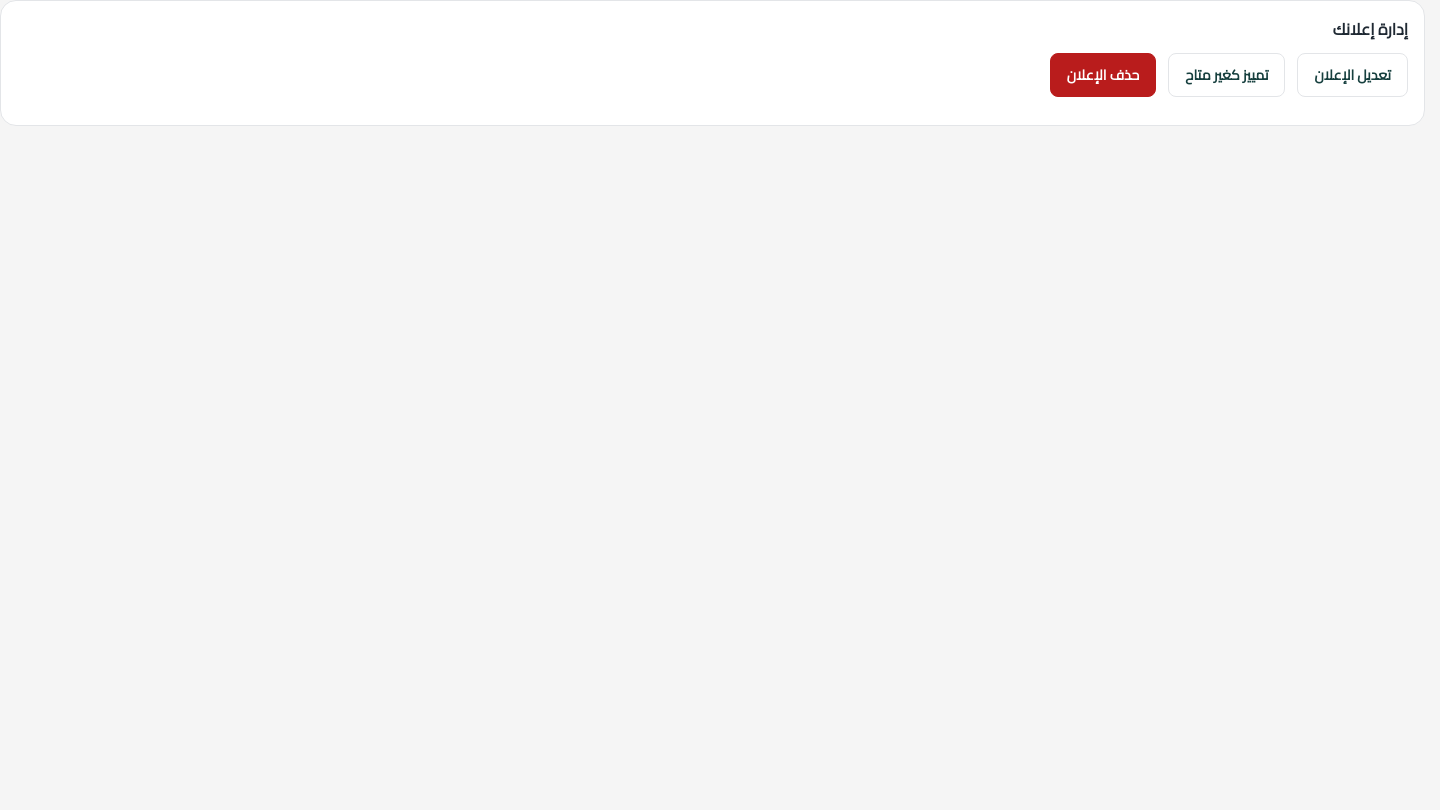
cancels delete without making requests or invalidating cache
Step 1. Click the button "حذف الإعلان" → (1103, 75), box [1050,53,1156,97]
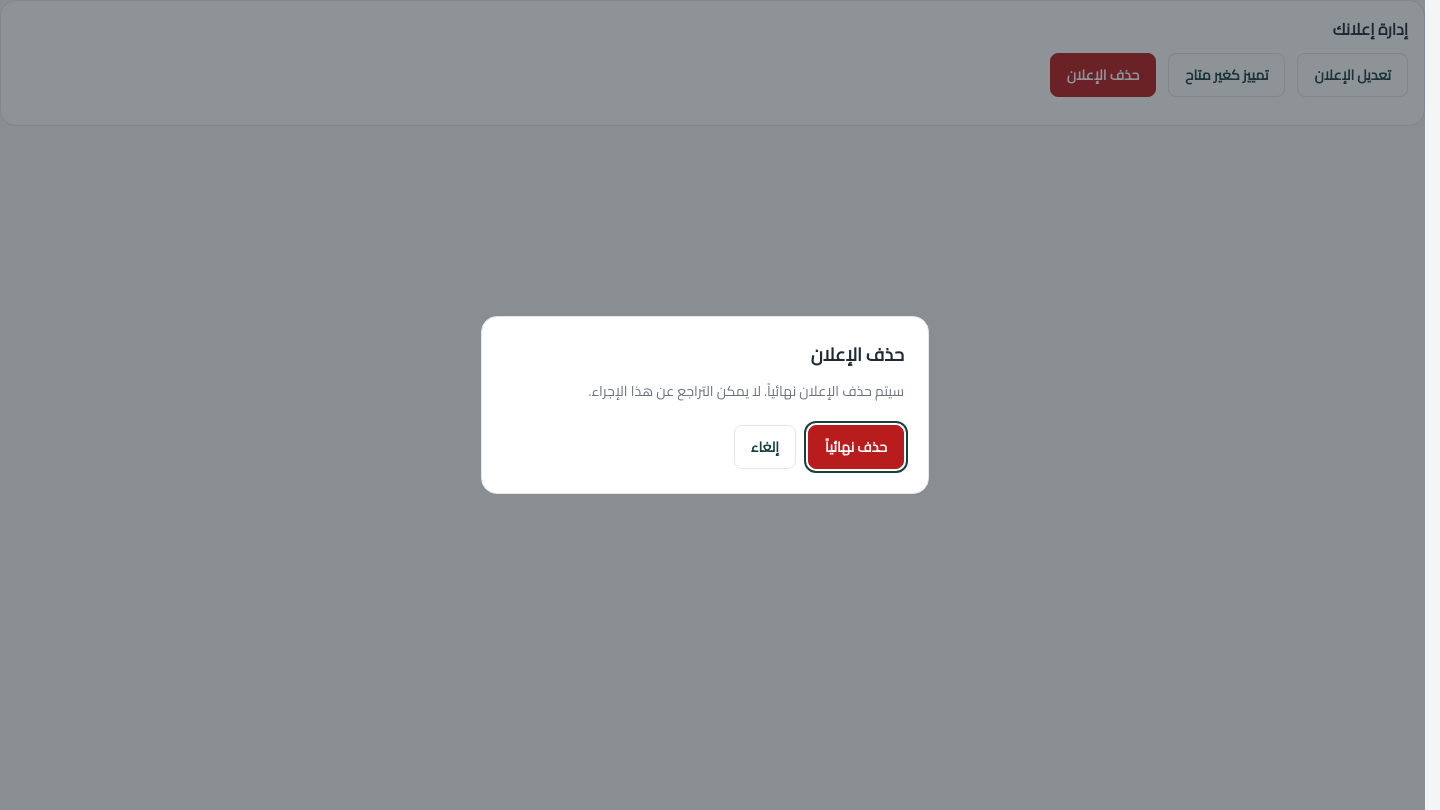
Step 2. Click the button "إلغاء" → (765, 447), box [734,425,796,469]
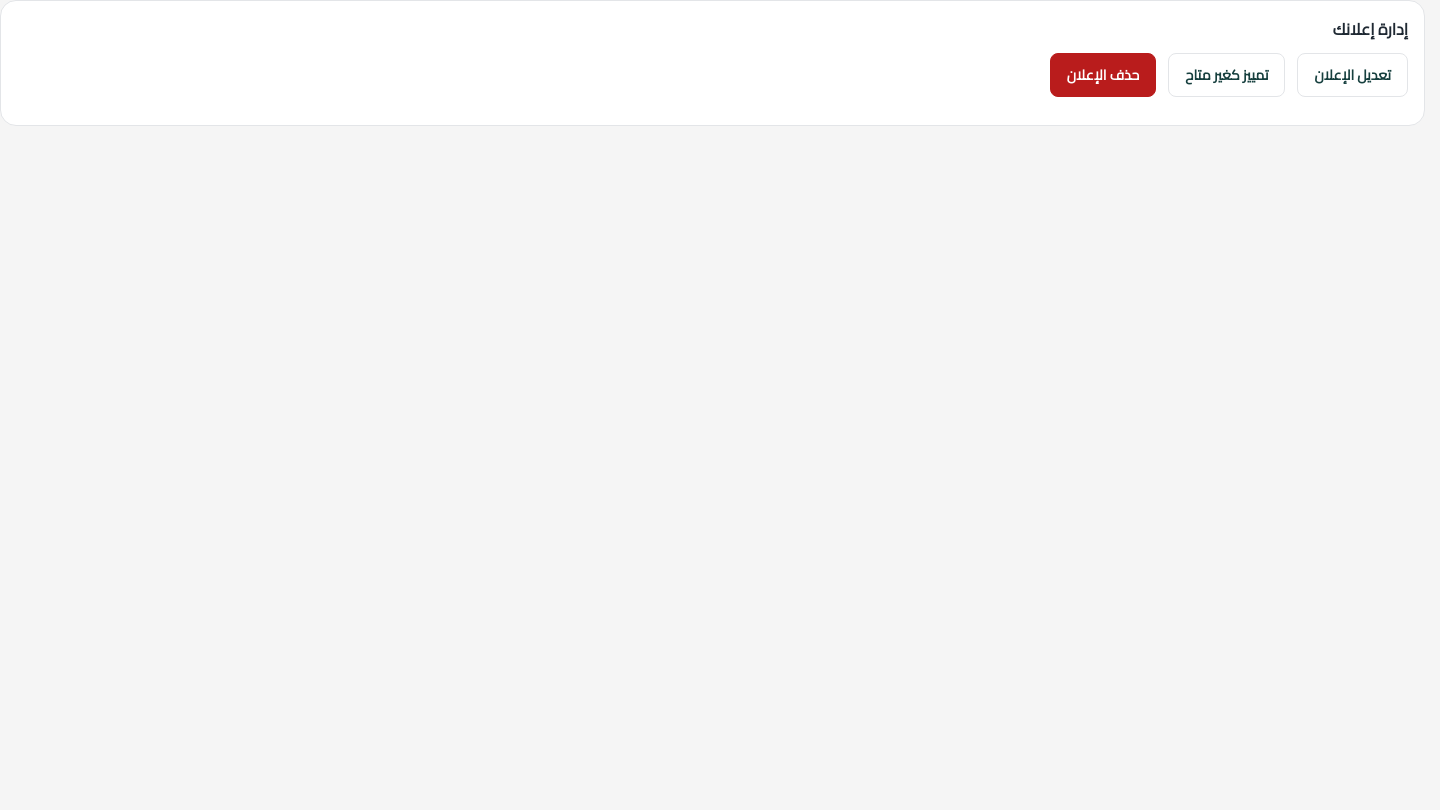
Result: the dialog is gone
